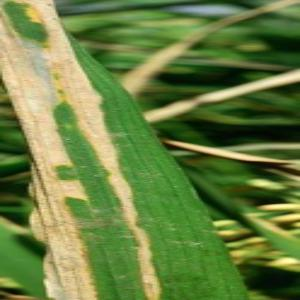Bacterial_Blight: (11, 25, 172, 299)
